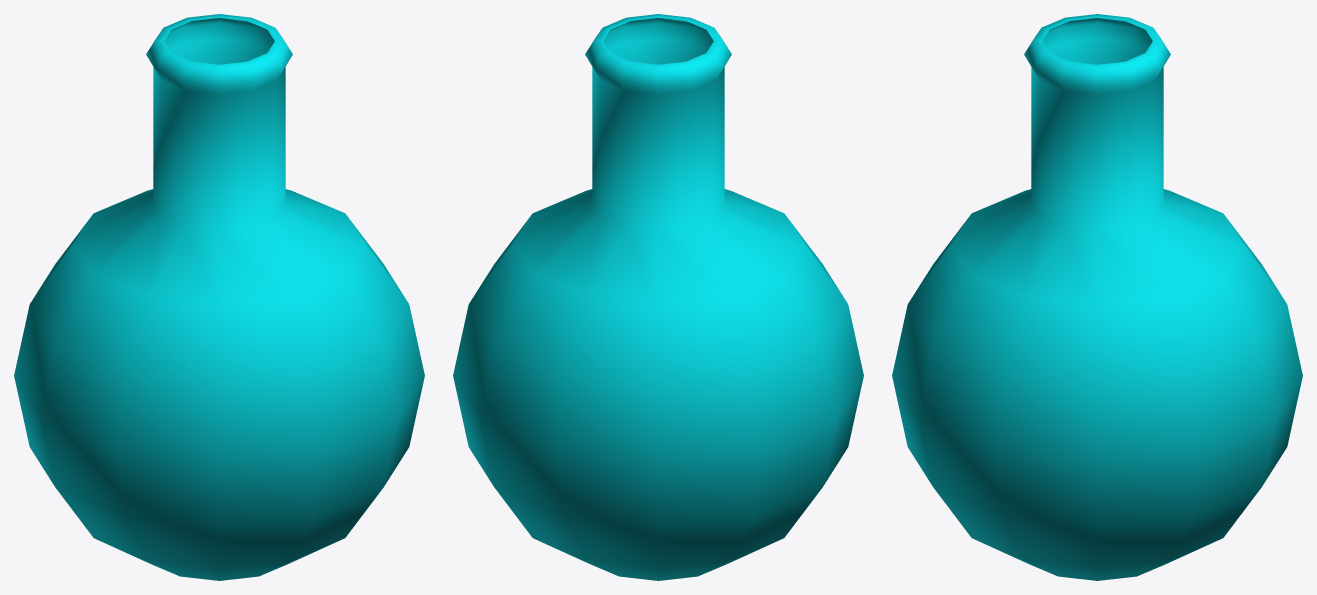
Rendered from BeckerEsfera.fbx.
The picture shows the model from 3 angles, left to right: view 1: azimuth 30°, elevation 25°; view 2: azimuth 150°, elevation 25°; view 3: azimuth 270°, elevation 25°; orthographic projection.
Parts seen in each view (by area): view 1: BeckerEsfera; view 2: BeckerEsfera; view 3: BeckerEsfera.
Boxes of the visible parts, <box> form: BeckerEsfera: <box>14,14,424,580</box>; BeckerEsfera: <box>453,14,863,580</box>; BeckerEsfera: <box>892,14,1302,580</box>.
Bounding box in the file's own units: 37.97 × 52.46 × 37.97.
1 material, 1 textured.
